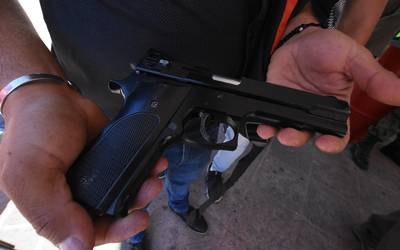Arma Real: (64, 51, 351, 217)
